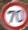Speed Limit -70-: (0, 0, 27, 29)
